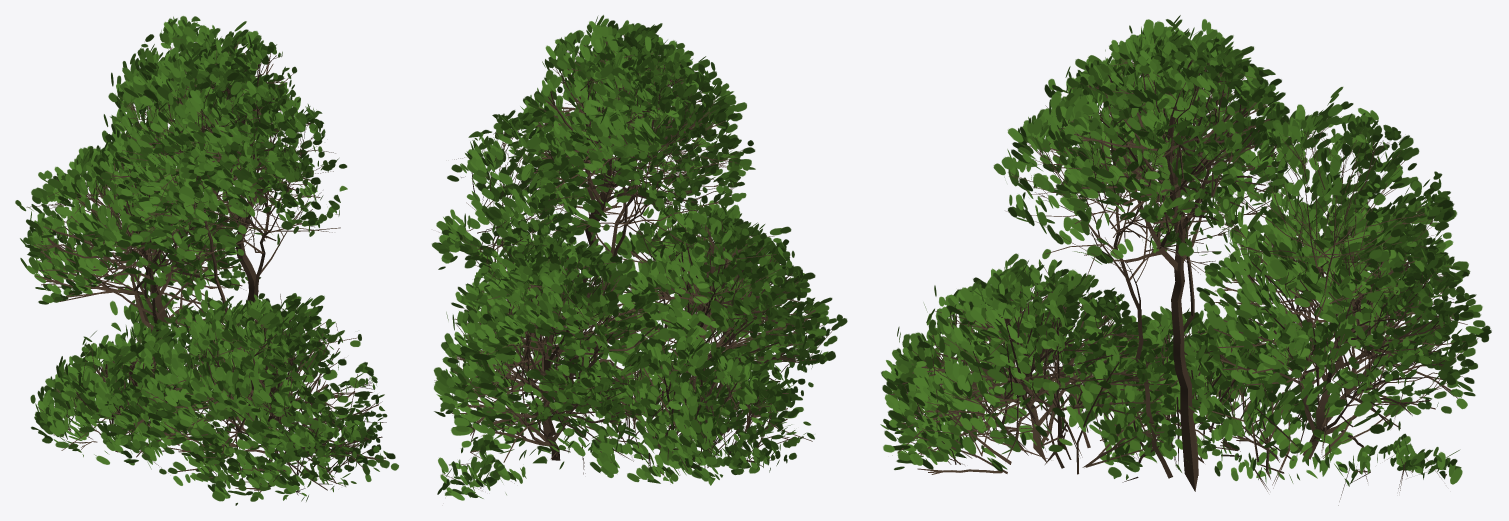
The picture shows the model from 3 angles, left to right: view 1: azimuth 30°, elevation 25°; view 2: azimuth 150°, elevation 25°; view 3: azimuth 270°, elevation 25°; orthographic projection. The views are drawn at different scales.
Visible parts, largest first — view 1: oak 01.001_trunk_Mat.001_0.387; view 2: oak 01.001_trunk_Mat.001_0.387; view 3: oak 01.001_trunk_Mat.001_0.387.
Part boxes in pixels (left/top/right/bottom): oak 01.001_trunk_Mat.001_0.387: left=15, top=16, right=398, bottom=505; oak 01.001_trunk_Mat.001_0.387: left=431, top=15, right=847, bottom=500; oak 01.001_trunk_Mat.001_0.387: left=880, top=15, right=1491, bottom=505.
Bounding box in the file's own units: 2.57 × 3.7 × 4.59.
2 materials, 1 textured.
